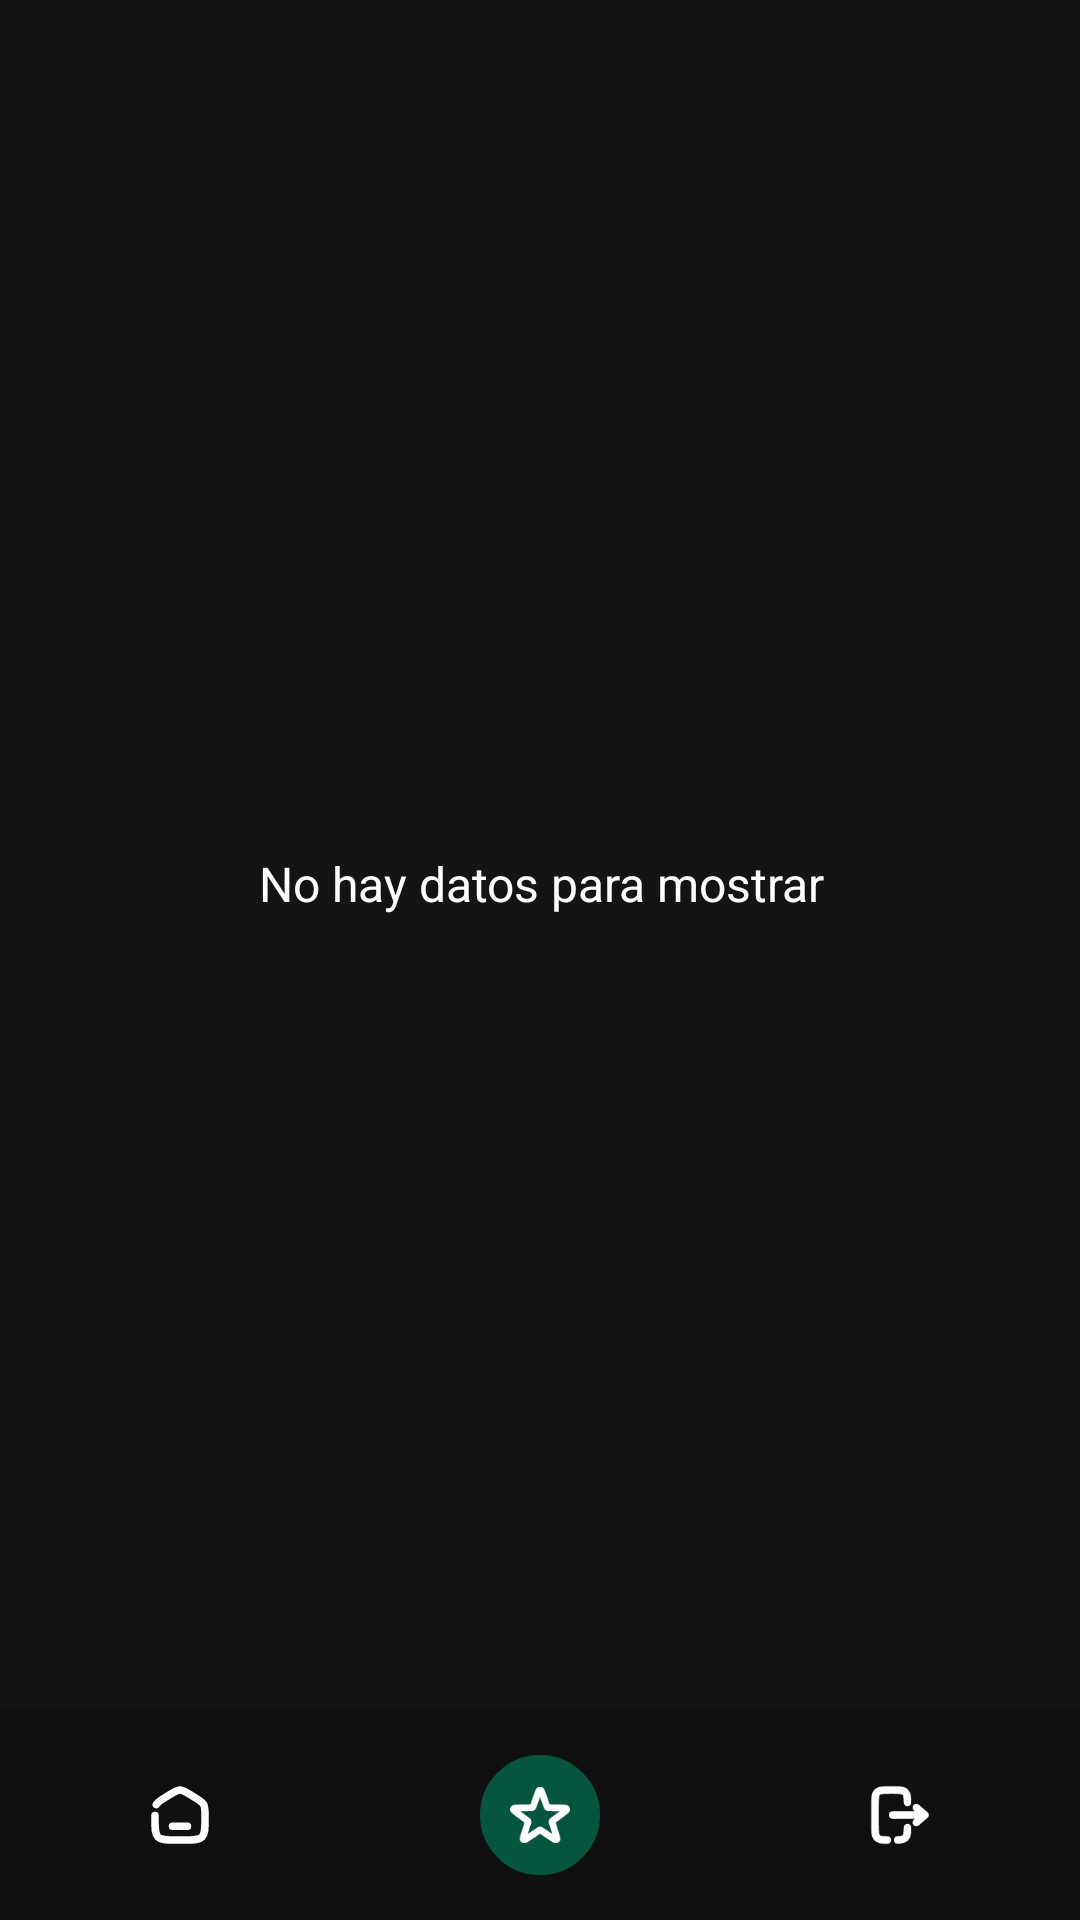

Point at icon controls on the screen. Image size 1080w x 1920h, points as (x,y).
home: (180,1815)
star: (540,1815)
